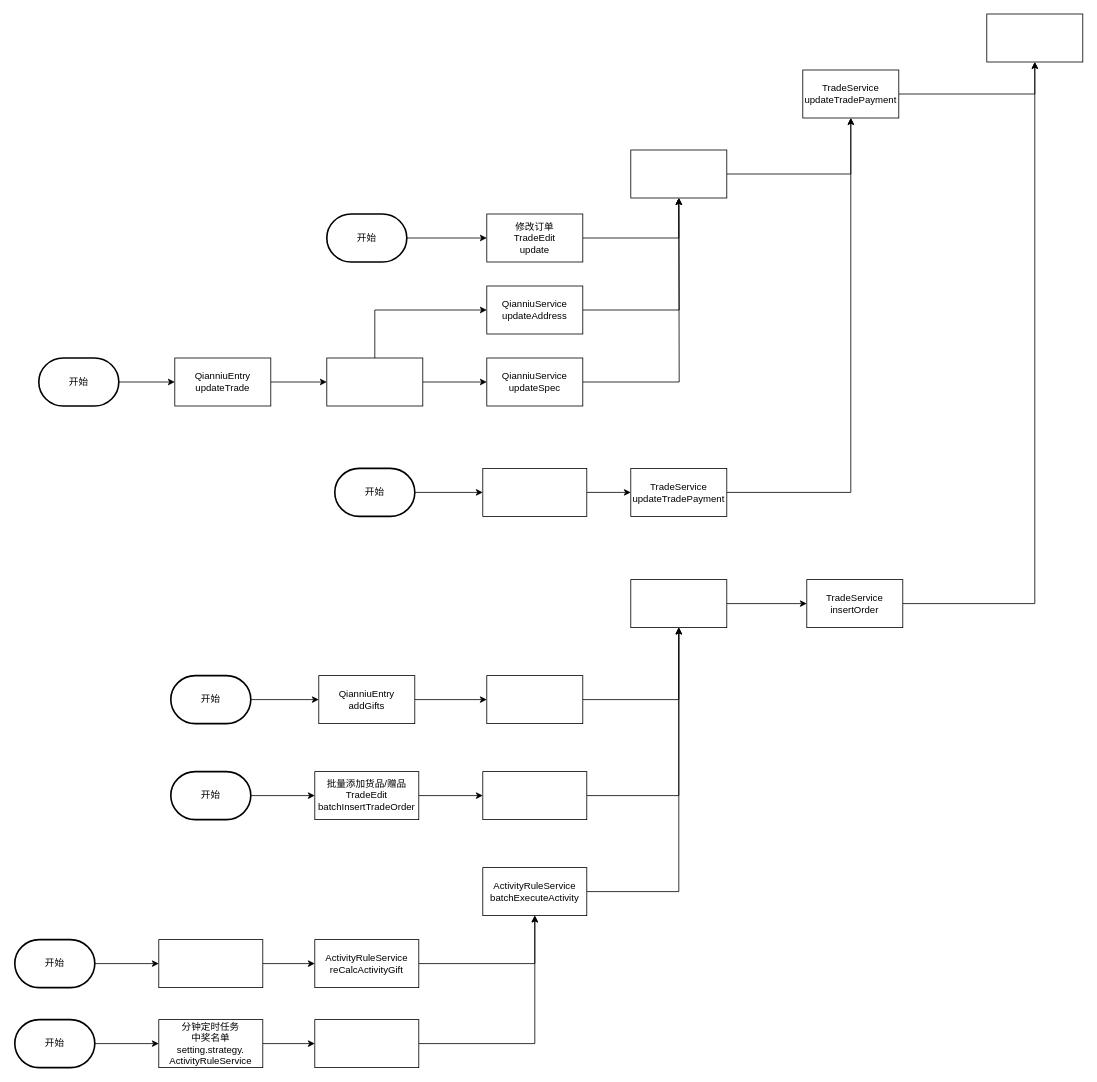
Image size: 1097x1082. Some labels were removed from this diagram. Here are the shapes that lost their labels. From the top down, the centre of each, then its label:
the point at 1034,37: TradeService savePayment
the point at 678,173: 修改订单 TradeService update
the point at 374,381: QianniuService updateTrade
the point at 534,492: 批量删除指定的货品 或者赠品 TradeEdit batchDeleteTradeOrder
the point at 678,603: TradeService insertTradeOrder
the point at 534,699: QianniuService addGifts
the point at 534,795: TradeService batchInsertTradeOrder
the point at 210,963: ActivityRuleEntry reCalcActivityGift
the point at 366,1043: ActivityRuleService autoExecuteActivityRule
